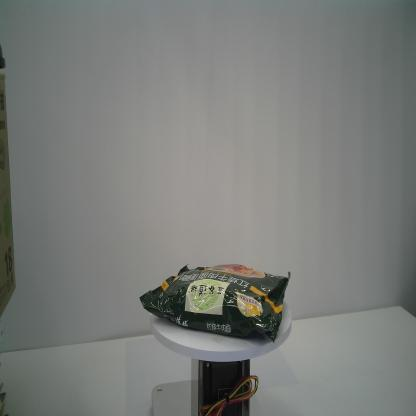Instant Noodles: (137, 261, 292, 347)
